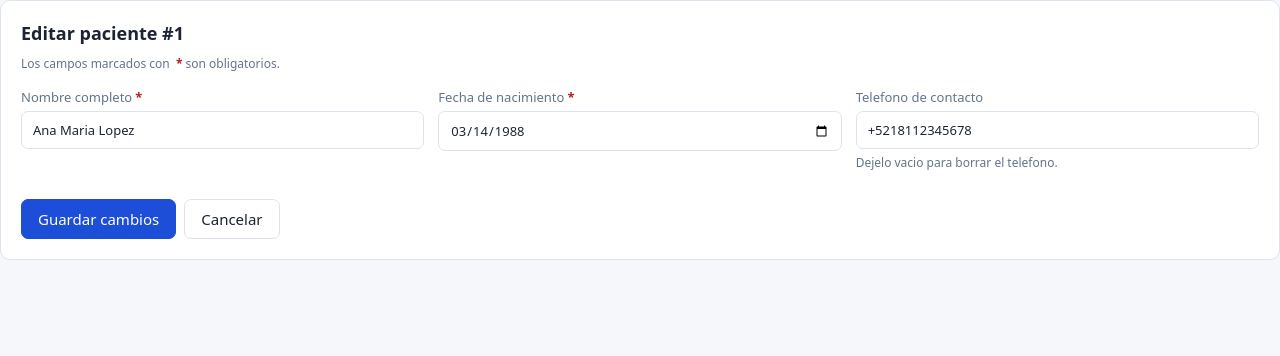
Test case: PatientForm › muestra el error que solo el backend puede detectar
The width and height of the screenshot is (1280, 356).
Click the button "Guardar cambios". click: (99, 219)
box: [21,199,176,239]
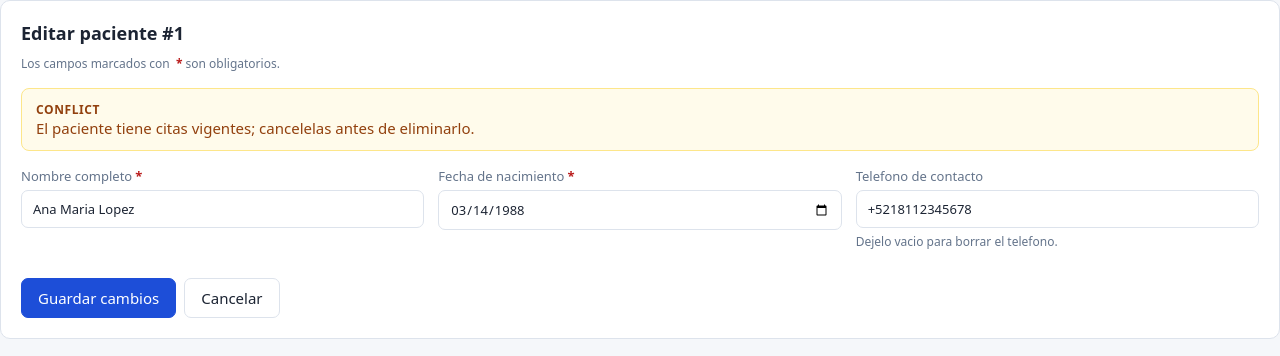
expect the text "El paciente tiene citas vigentes" is shown: met, box [36,118,474,138]
